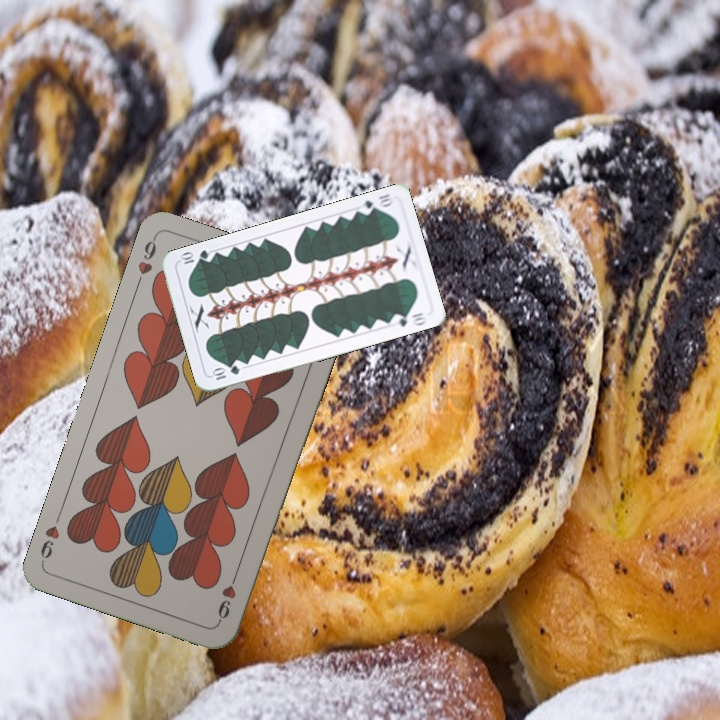G10: (355, 189, 395, 217), (207, 361, 242, 383)
H9: (213, 568, 241, 625), (132, 233, 159, 290)
